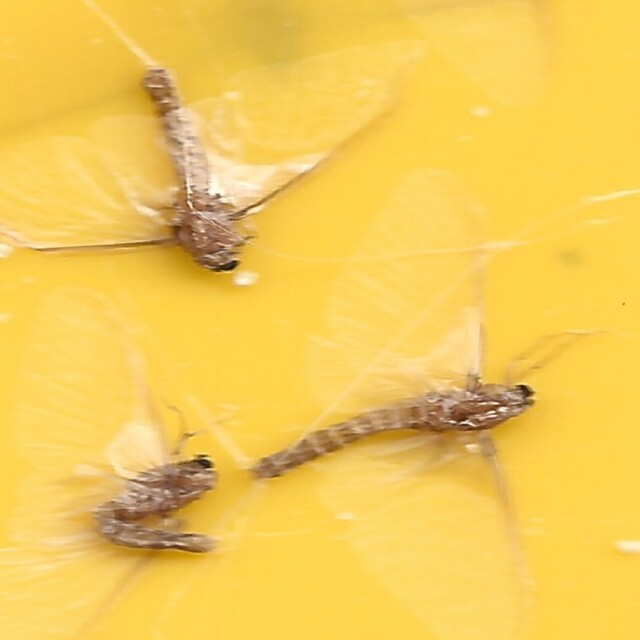Ephemeroptera: (241, 380, 545, 494), (132, 71, 246, 270), (95, 451, 228, 569)
